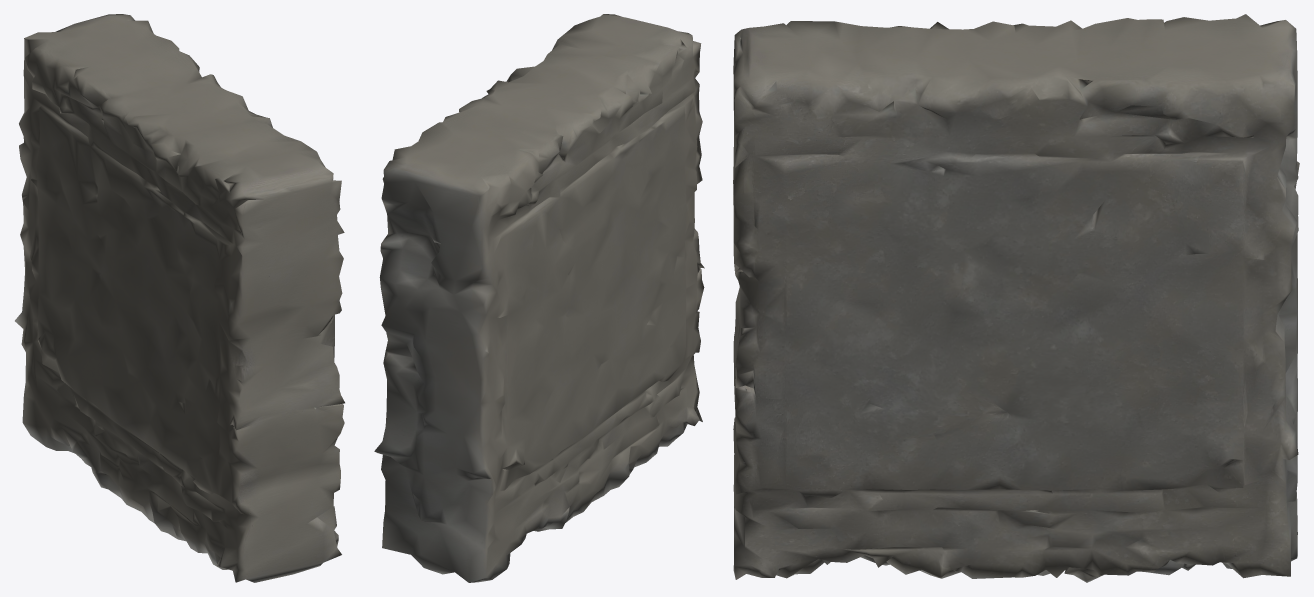
File: ceiling_slab.glb
3 renders of one model, left to right at view 1: azimuth 30°, elevation 25°; view 2: azimuth 150°, elevation 25°; view 3: azimuth 270°, elevation 25°, orthographic. The views are drawn at different scales.
Visible parts, largest first — view 1: tripo_node_b0384ebd-5b32-41f1-90ab-16210f534873; view 2: tripo_node_b0384ebd-5b32-41f1-90ab-16210f534873; view 3: tripo_node_b0384ebd-5b32-41f1-90ab-16210f534873.
Boxes of the visible parts, x1,y1,x2,y2 form: tripo_node_b0384ebd-5b32-41f1-90ab-16210f534873: (15,14,344,582); tripo_node_b0384ebd-5b32-41f1-90ab-16210f534873: (374,14,704,582); tripo_node_b0384ebd-5b32-41f1-90ab-16210f534873: (733,14,1299,582).
Bounding box in the file's own units: 0.3227 × 0.9994 × 1.
Materials: 1 (1 with a texture image).
